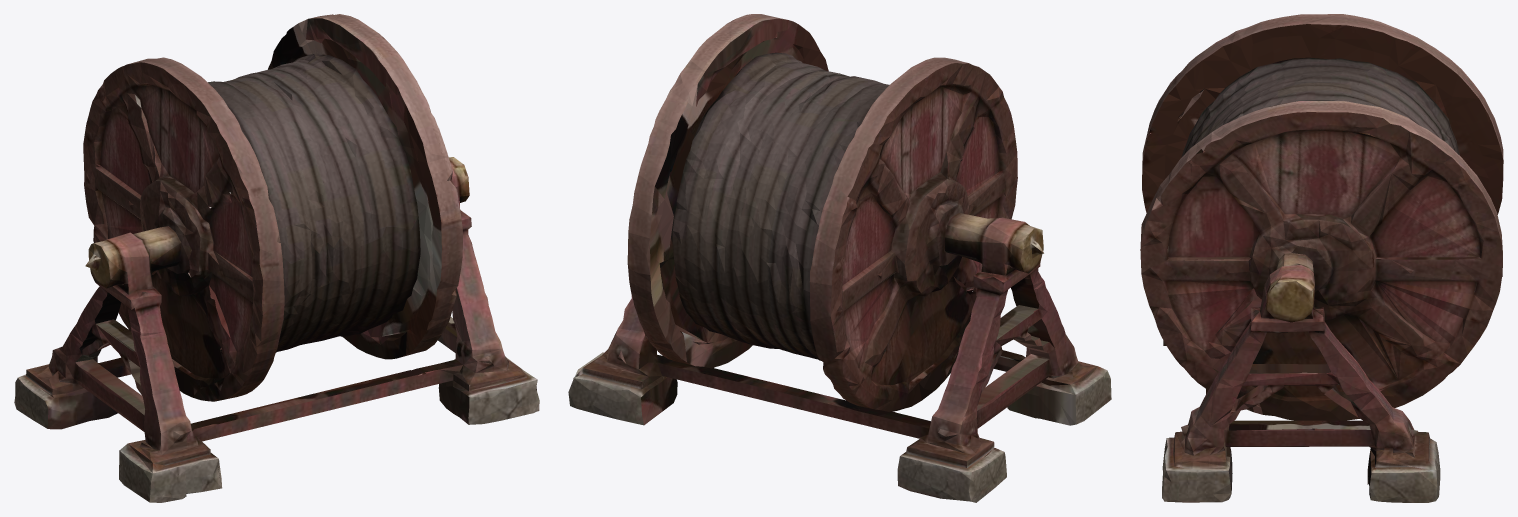
Rendered from park_cable_reel_1117.glb.
The picture shows the model from 3 angles, left to right: view 1: azimuth 30°, elevation 25°; view 2: azimuth 150°, elevation 25°; view 3: azimuth 270°, elevation 25°; orthographic projection. The views are drawn at different scales.
Visible parts, largest first — view 1: world; view 2: world; view 3: world.
Part boxes in pixels (x1=…): world: x1=14, y1=14, x2=539, y2=502; world: x1=568, y1=14, x2=1111, y2=502; world: x1=1140, y1=14, x2=1503, y2=502.
Bounding box in the file's own units: 1.19 × 1 × 0.9449.
Materials: 1 (1 with a texture image).
